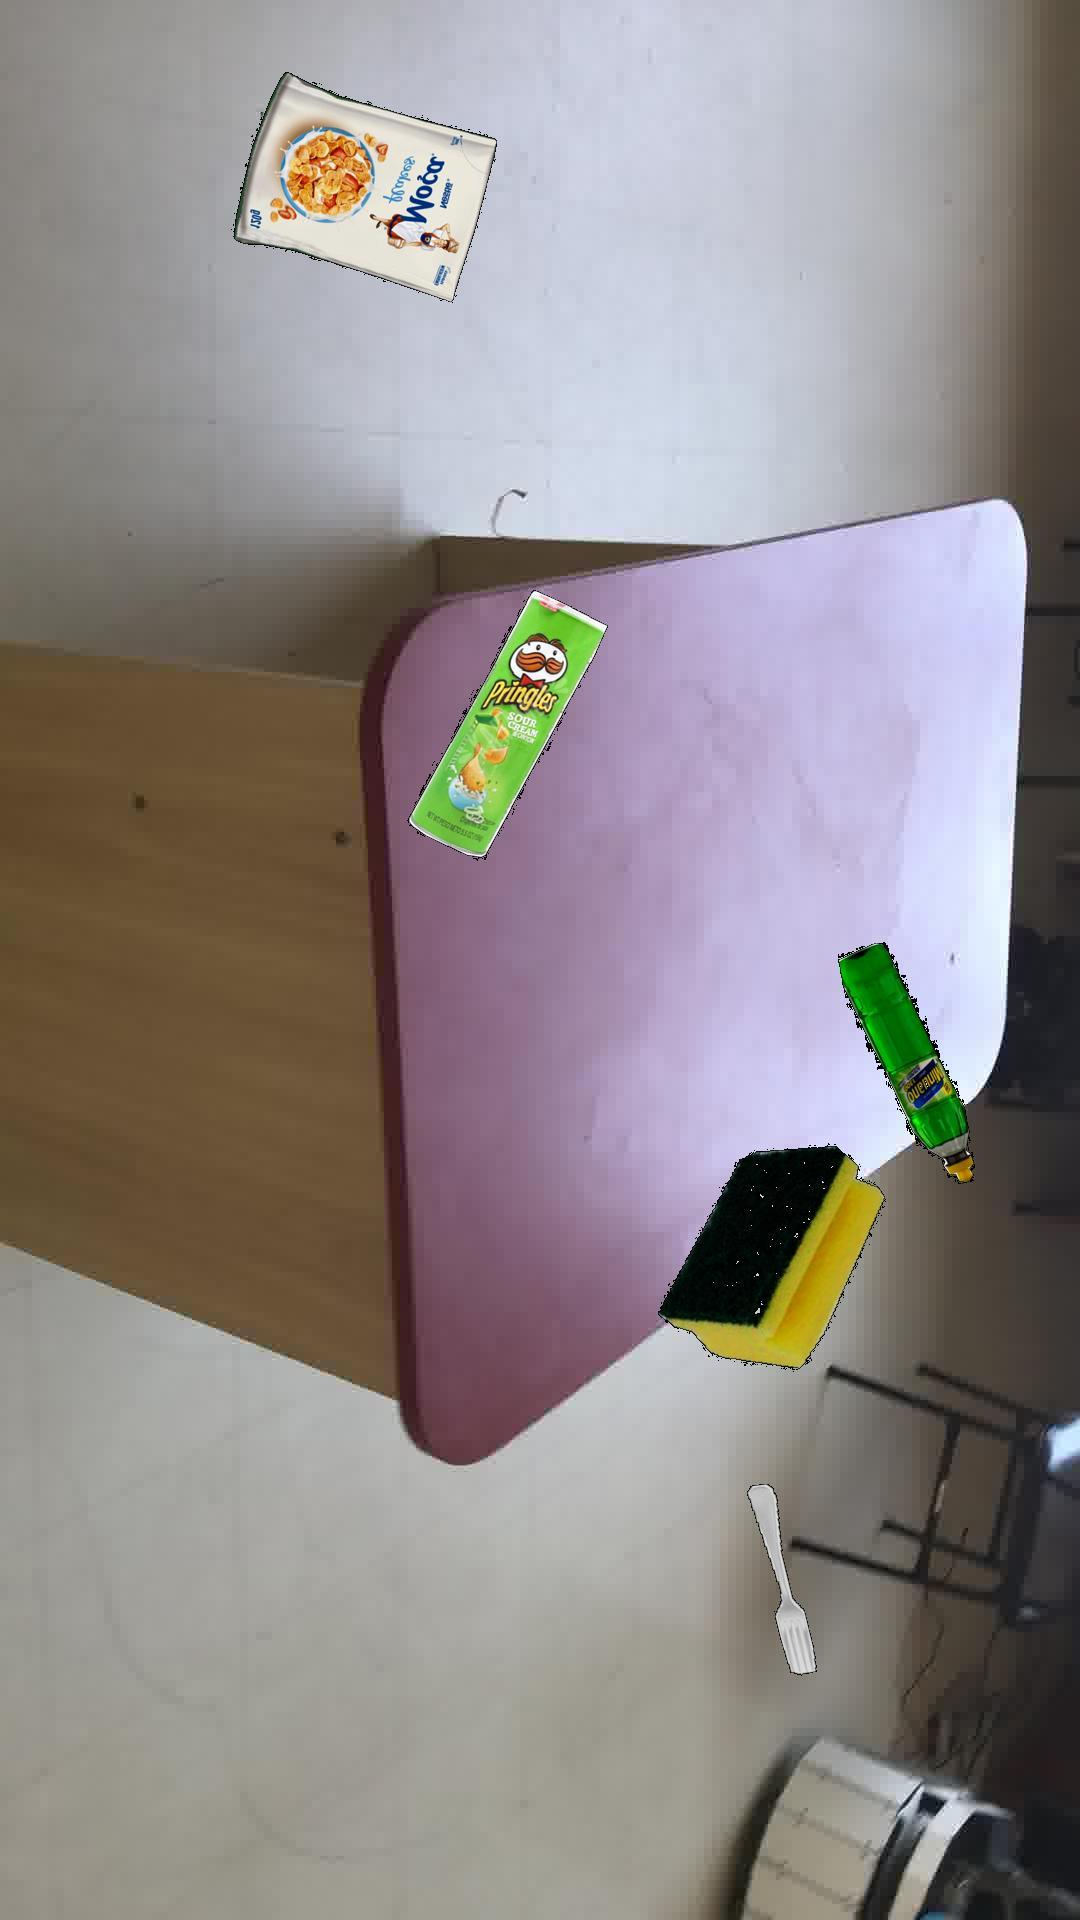cleaner: (836, 940, 973, 1182)
corn flakes: (232, 70, 496, 301)
fork: (745, 1482, 815, 1675)
pringles: (406, 588, 607, 858)
sponge: (657, 1143, 884, 1369)
